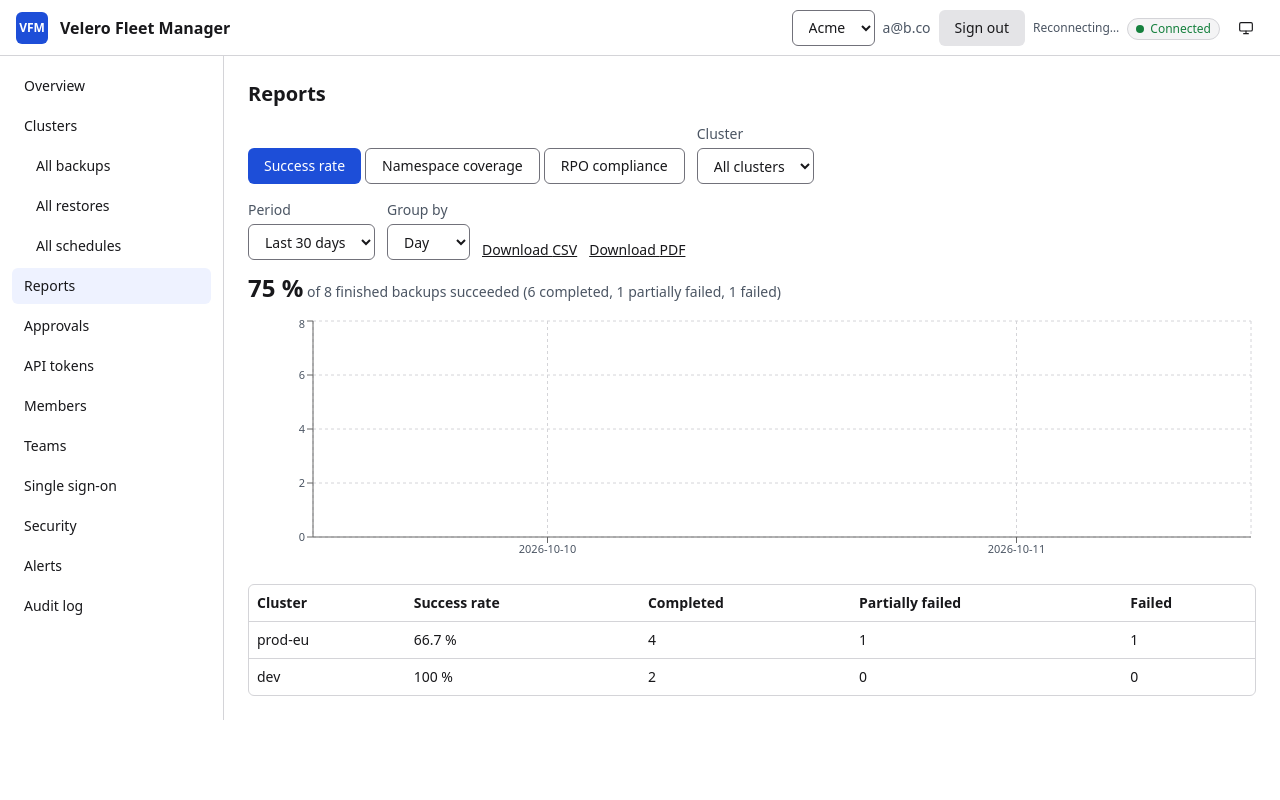
Test: reports: namespace coverage › says when the backups read were only the newest
Check: the heading "Reports" is shown, box [248, 80, 326, 107]
What coordinates should you click on to do the following:
click the button "Namespace coverage"
I would click on:
 (452, 166)
Its box is [365, 148, 540, 184].
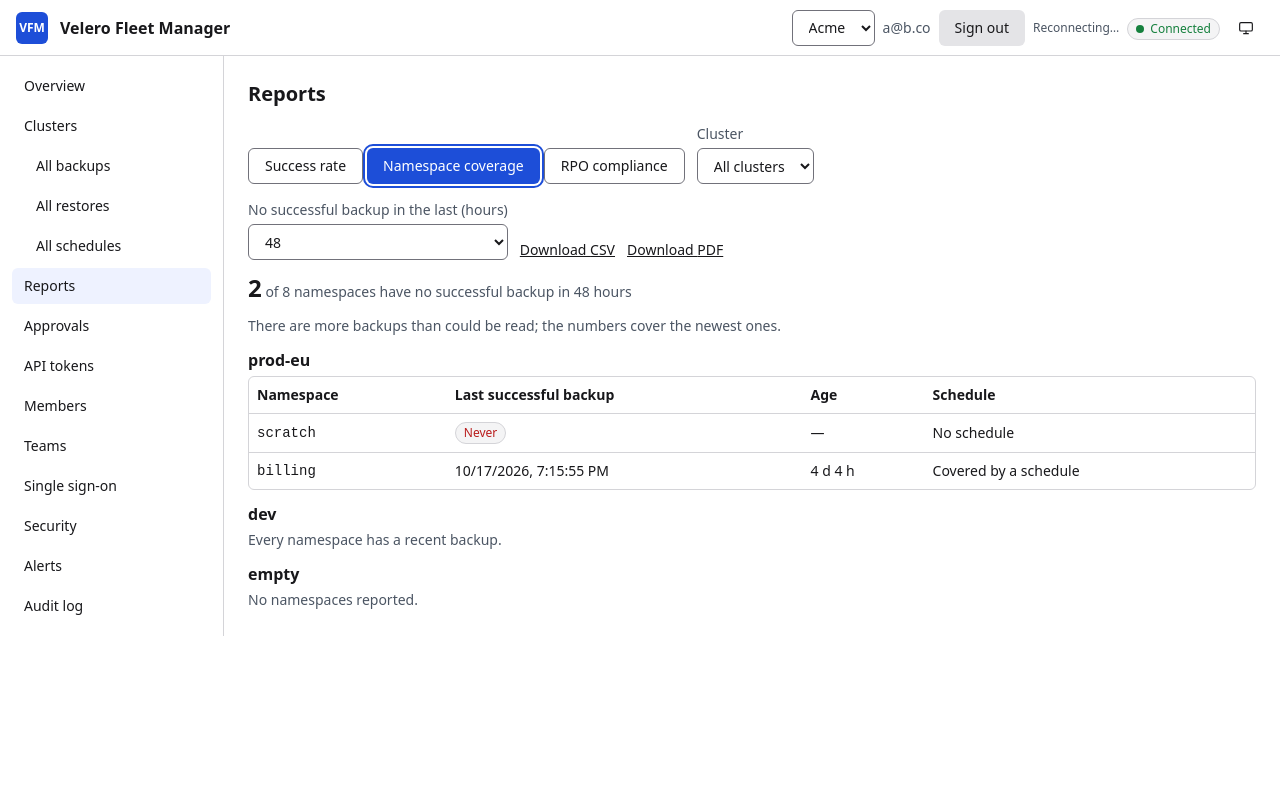
Check: the text "There are more backups than could be read; the numbers cover the newest ones." is shown, box [248, 316, 781, 335]
